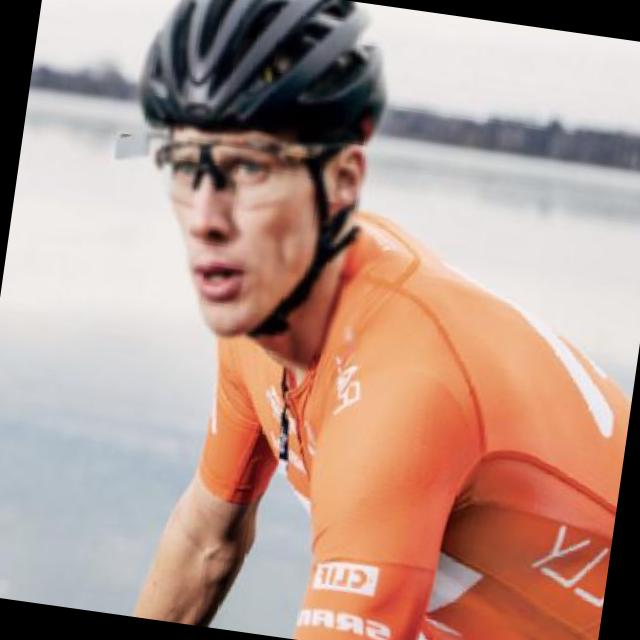With Helmet: (101, 0, 407, 361)
